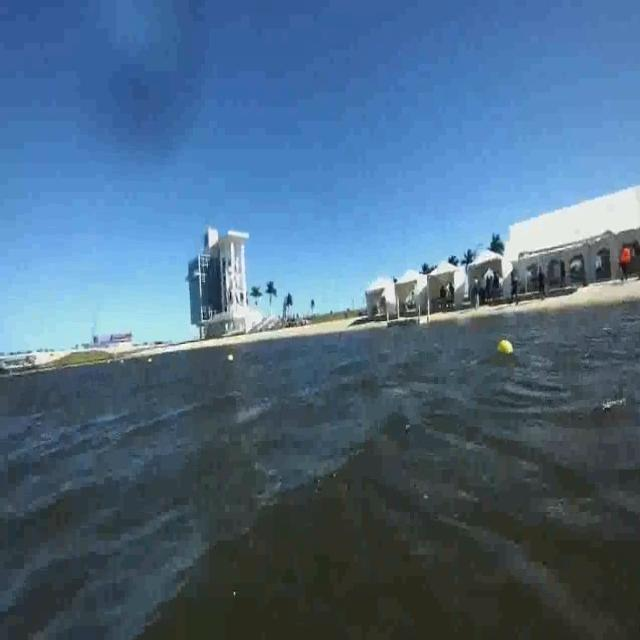yellow-buoy: (498, 341, 514, 356)
